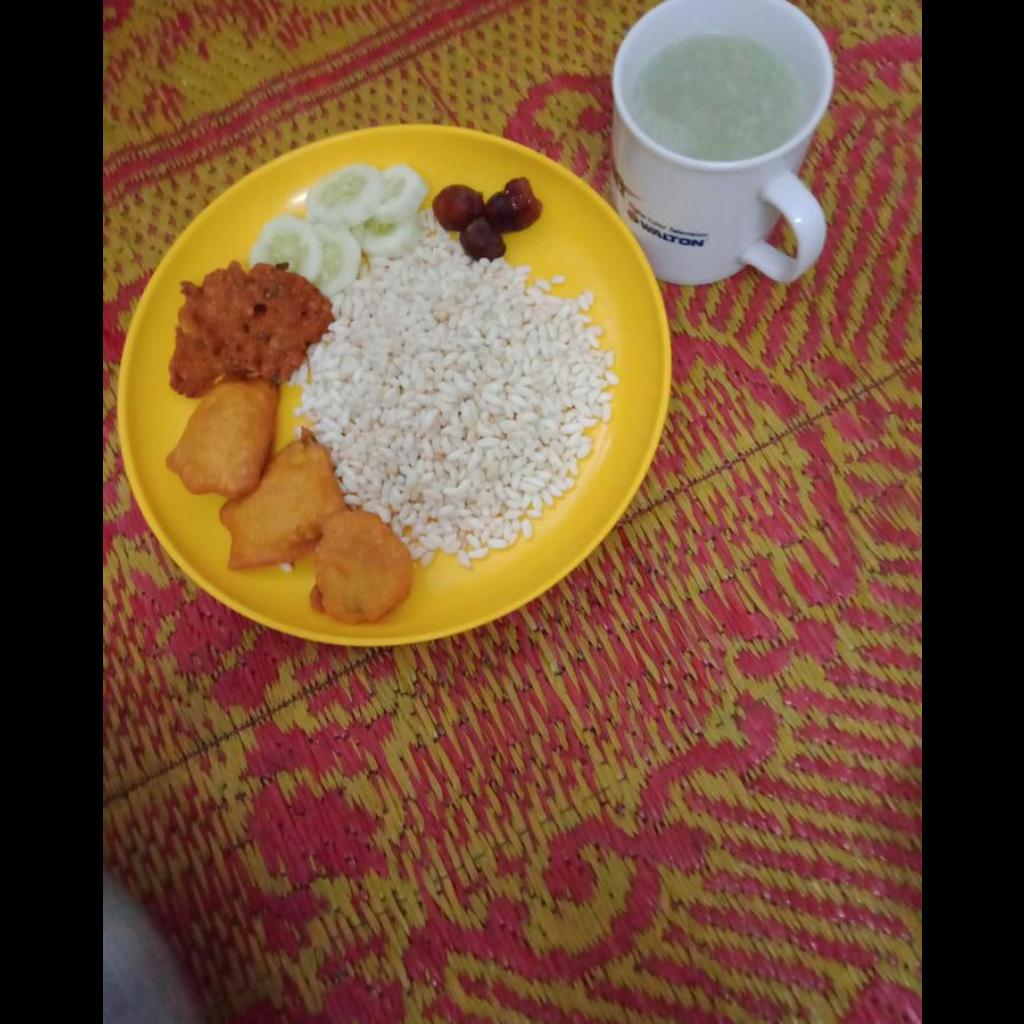chop-alu: (173, 393, 420, 627)
cucumber: (258, 166, 421, 274)
dates: (434, 176, 535, 259)
peyaju: (167, 267, 337, 390)
puffed-rice: (311, 246, 596, 568)
